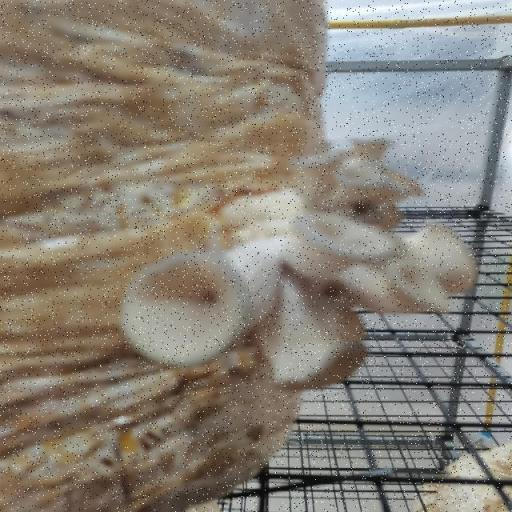White Oyster Mushroom: (106, 166, 490, 414), (304, 139, 427, 228)
